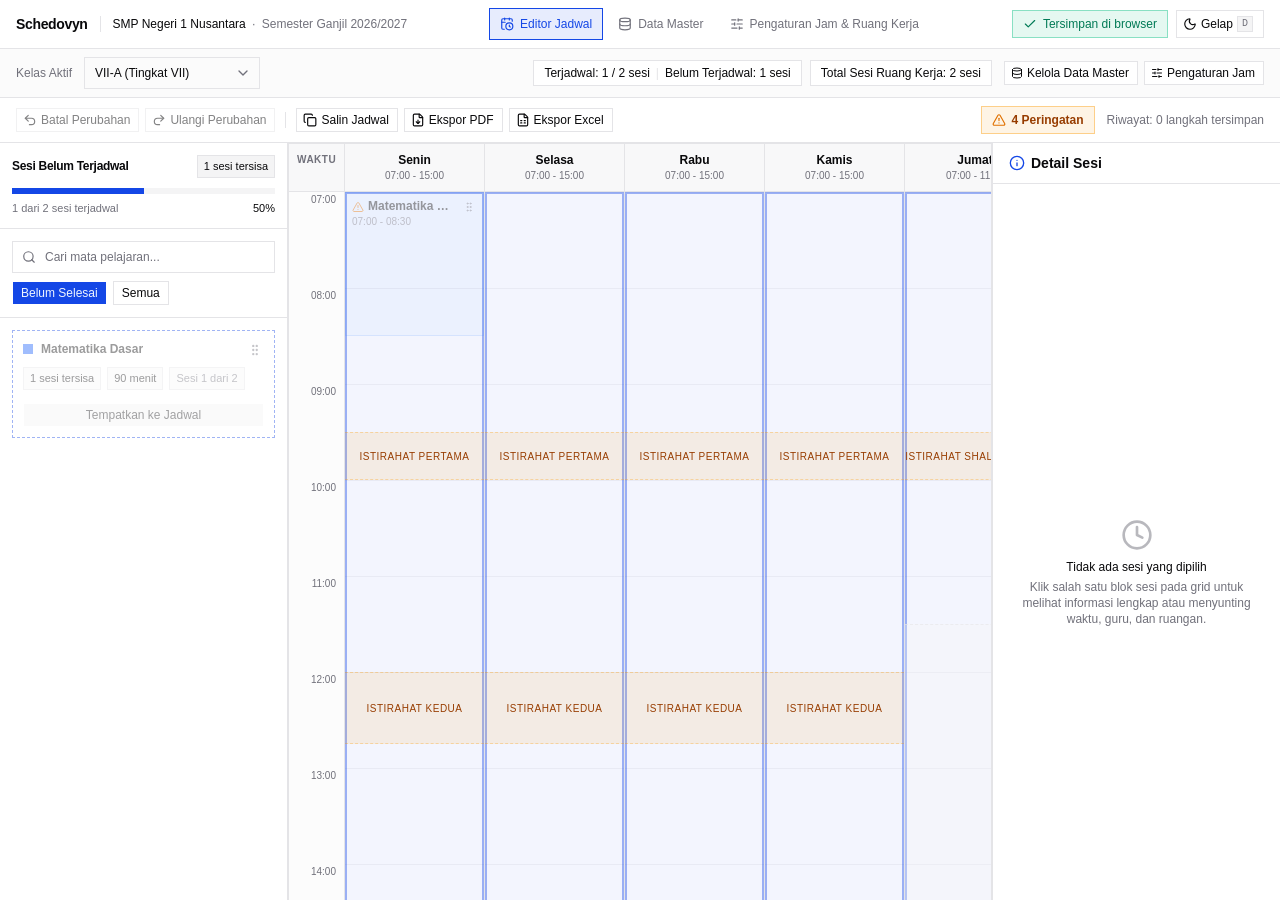
Test: FR-03 & AC-01: Halaman Editor Jadwal & Pemilih Kelas Aktif (EditorPage) › AC-01 & AC-FR03-01: menampilkan jadwal & kebutuhan kelas aktif serta beralih kelas tanpa menghapus data kelas lain
The width and height of the screenshot is (1280, 900).
Expected: the text "Matematika Dasar" below "sesi terjadwal" is shown, x1=41 y1=342 x2=143 y2=356
Expected: the text "Fisika Terapan" is not shown
What coordinates should you click on to do the following:
click the dropdown named "Pilih Kelas Aktif"
I would click on:
 (172, 73)
Its box is x1=84 y1=57 x2=260 y2=89.
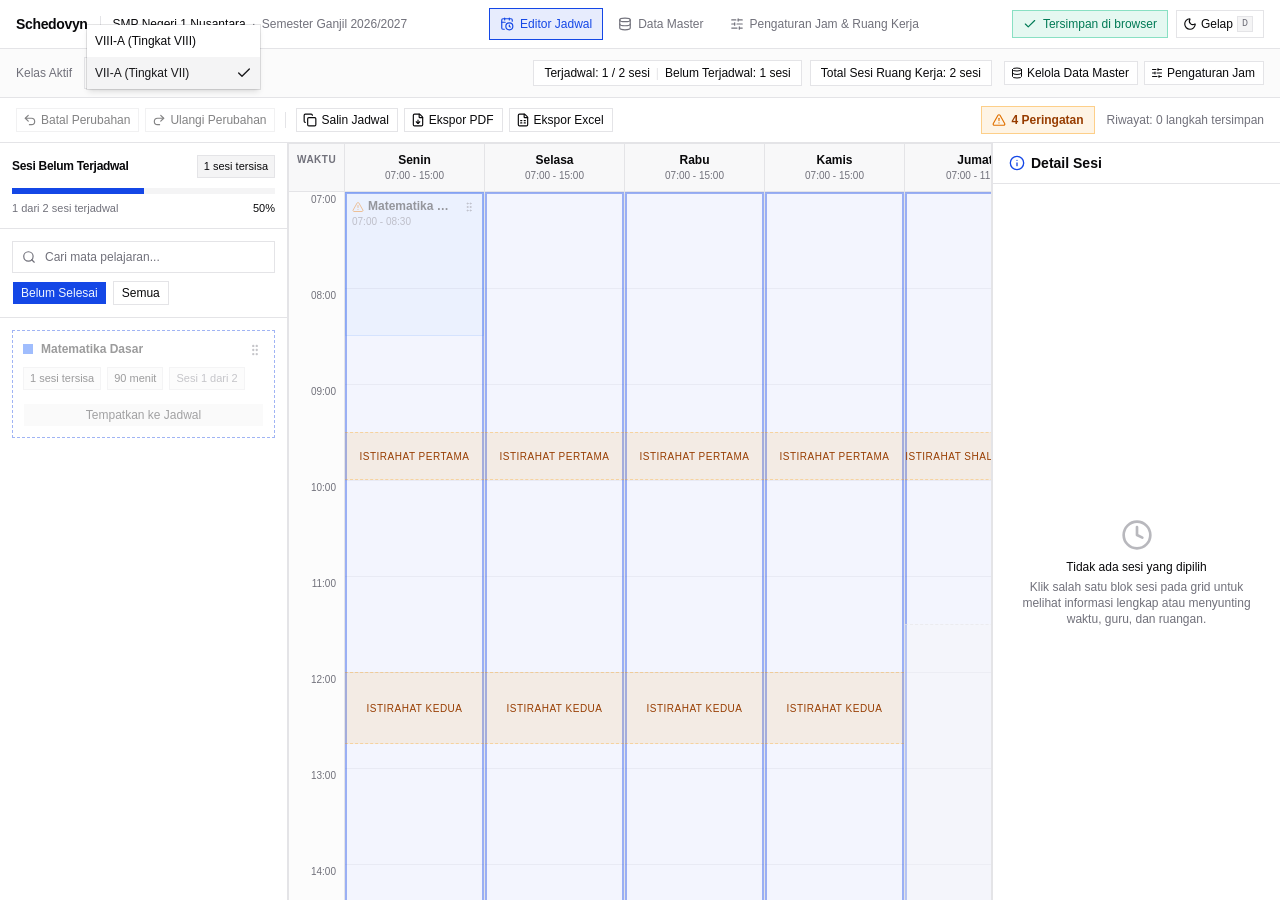
What coordinates should you click on to do the following:
click the option "VIII-A (Tingkat VIII)"
I would click on:
 (145, 41)
Its box is x1=95 y1=34 x2=196 y2=48.
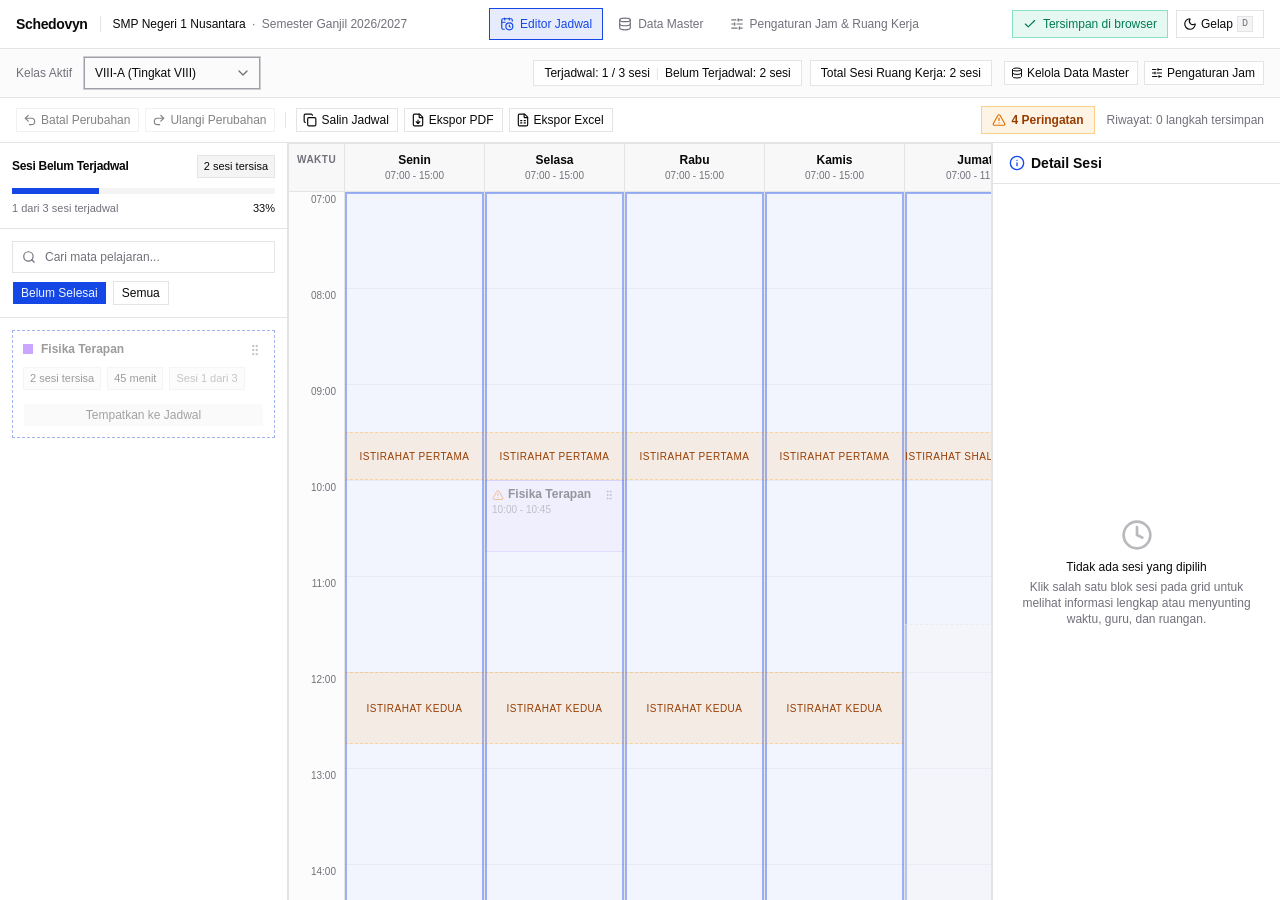
Now the text "Fisika Terapan" below "sesi terjadwal" is shown, box x1=41 y1=342 x2=124 y2=356
Now the text "Matematika Dasar" is gone
